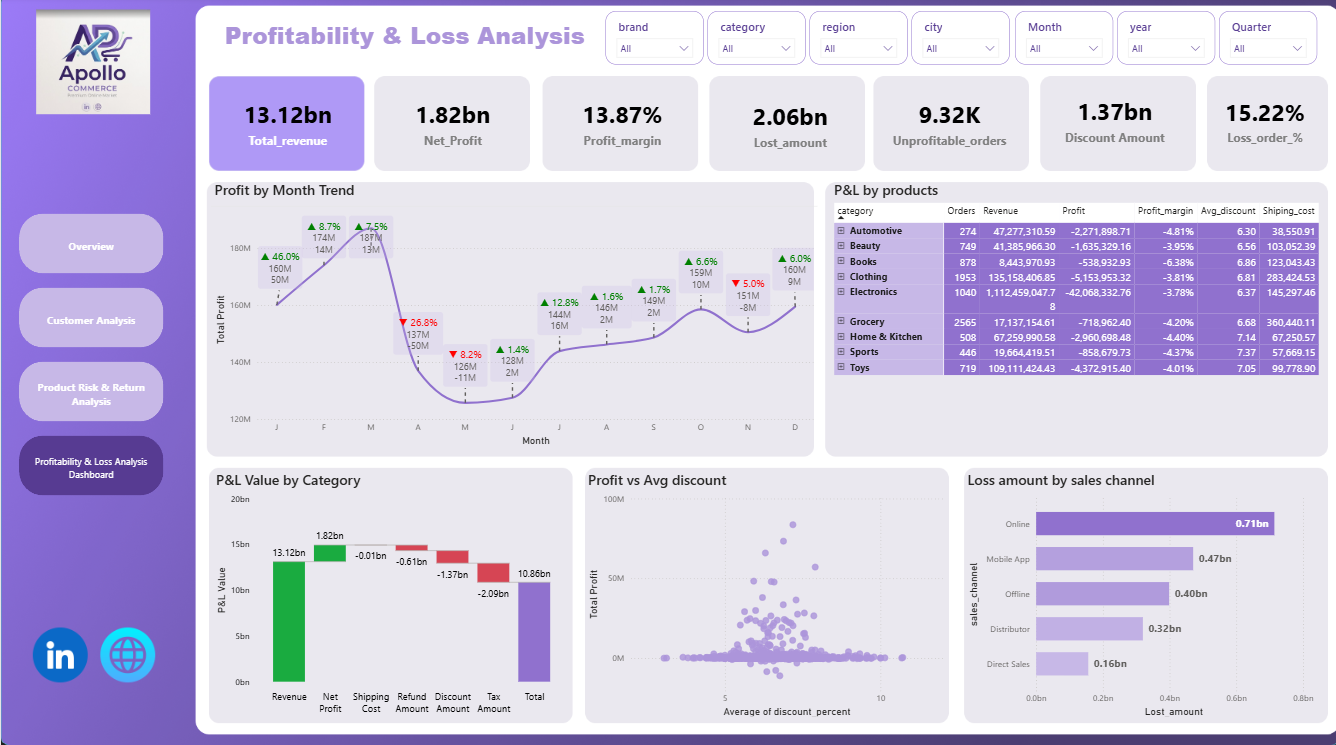

What the dashboard file says about the page in this screenshot:
{"tool":"powerbi","page":{"name":"Profitability & Loss Analysis Dashboard","canvas":[1920,1080],"ordinal":3},"visuals":[{"type":"card","fields":{"Values":["Measures_table.Total_revenue"]},"box":[300.6,119.3,219.5,121.7],"z":0},{"type":"scatterChart","title":"Profit vs Avg discount","fields":{"Category":["products.product_name"],"X":["Avg(orders.discount_percent)"],"Y":["Measures_table.Total Profit"]},"box":[835.1,680,524.9,357.9],"z":1000},{"type":"card","fields":{"Values":["Measures_table.Total Profit"]},"box":[536.8,119.3,219.5,121.7],"z":6000},{"type":"card","fields":{"Values":["Measures_table.Profit_margin"]},"box":[780.2,119.3,219.5,121.7],"z":7000},{"type":"card","fields":{"Values":["Measures_table.Lost_amount"]},"box":[1021.2,121.7,219.5,121.7],"z":8000},{"type":"card","fields":{"Values":["Measures_table.Unprofitable_orders"]},"box":[1257.4,119.3,202.8,121.7],"z":9000},{"type":"card","fields":{"Values":["Measures_table.Loss_order_%"]},"box":[1722.6,114.5,174.2,126.5],"z":10000},{"type":"card","fields":{"Values":["Measures_table.Revenue Before Discount"]},"box":[1488.8,116.9,212.3,121.7],"z":11000},{"type":"waterfallChart","fields":{"Category":["P&L Categories.Category"],"Y":["Measures_table.P&L Value"]},"box":[303,680,513,357.9],"z":12000},{"type":"pivotTable","title":"P&L by products","fields":{"Rows":["products.category","products.product_name"],"Values":["Measures_table.Total_orders","Measures_table.Total_revenue","Measures_table.Total Profit","Measures_table.Profit_margin","Avg(orders.discount_percent)","Measures_table.Total shiping cost"]},"box":[1188.2,264.8,708.6,384.1],"z":13001},{"type":"shape","box":[303,19.1,551.1,71.6],"z":13003},{"type":"lineChart","title":" Profit by Month Trend","fields":{"Category":["Calender_table.Month"],"Y":["Measures_table.Total Profit"]},"box":[300.6,264.8,868.5,384.1],"z":13004},{"type":"barChart","title":"Loss amount by sales channel","fields":{"Category":["orders.sales_channel"],"Y":["Measures_table.Lost_amount"]},"box":[1379.1,680,517.7,357.9],"z":13005},{"type":"pageNavigator","box":[26.2,312.6,207.6,404],"z":13006},{"type":"slicer","fields":{"Values":["Calender_table.Date.Variation.Date Hierarchy.Month"]},"box":[1451.4,20.5,140.8,76.3],"z":13007},{"type":"slicer","fields":{"Values":["Calender_table.year"]},"box":[1597.8,20.5,140.8,76.3],"z":13008},{"type":"slicer","fields":{"Values":["Calender_table.Date.Variation.Date Hierarchy.Quarter"]},"box":[1744.1,20.5,140.8,76.3],"z":13009},{"type":"slicer","fields":{"Values":["customers.city"]},"box":[1305.1,20.5,140.8,76.3],"z":13010},{"type":"slicer","fields":{"Values":["customers.region"]},"box":[1158.8,20.5,140.8,76.3],"z":13011},{"type":"slicer","fields":{"Values":["products.category"]},"box":[1012.4,20.5,140.8,76.3],"z":13012},{"type":"slicer","fields":{"Values":["products.brand"]},"box":[866.1,20.5,140.8,76.3],"z":13013},{"type":"image","box":[31.9,904.3,105,78.7],"z":13014},{"type":"image","box":[129.8,904.3,105,78.7],"z":13015},{"type":"image","box":[14.3,19.1,233.8,150.3],"z":13016}]}

Visuals, with their boxes in screenshot pixels (x1, y1, x2, y2), scaled from the page's 1920x1080 canvas onto the 1336x745 screenshot:
card - Measures_table.Total_revenue: (x1=209, y1=82, x2=362, y2=166)
"Profit vs Avg discount" scatterChart: (x1=581, y1=469, x2=946, y2=716)
card - Measures_table.Total Profit: (x1=374, y1=82, x2=526, y2=166)
card - Measures_table.Profit_margin: (x1=543, y1=82, x2=696, y2=166)
card - Measures_table.Lost_amount: (x1=711, y1=84, x2=863, y2=168)
card - Measures_table.Unprofitable_orders: (x1=875, y1=82, x2=1016, y2=166)
card - Measures_table.Loss_order_%: (x1=1199, y1=79, x2=1320, y2=166)
card - Measures_table.Revenue Before Discount: (x1=1036, y1=81, x2=1184, y2=165)
waterfallChart - P&L Categories.Category x Measures_table.P&L Value: (x1=211, y1=469, x2=568, y2=716)
"P&L by products" pivotTable: (x1=827, y1=183, x2=1320, y2=448)
shape: (x1=211, y1=13, x2=594, y2=63)
" Profit by Month Trend" lineChart: (x1=209, y1=183, x2=813, y2=448)
"Loss amount by sales channel" barChart: (x1=960, y1=469, x2=1320, y2=716)
pageNavigator: (x1=18, y1=216, x2=163, y2=494)
slicer - Calender_table.Date.Variation.Date Hierarchy.Month: (x1=1010, y1=14, x2=1108, y2=67)
slicer - Calender_table.year: (x1=1112, y1=14, x2=1210, y2=67)
slicer - Calender_table.Date.Variation.Date Hierarchy.Quarter: (x1=1214, y1=14, x2=1312, y2=67)
slicer - customers.city: (x1=908, y1=14, x2=1006, y2=67)
slicer - customers.region: (x1=806, y1=14, x2=904, y2=67)
slicer - products.category: (x1=704, y1=14, x2=802, y2=67)
slicer - products.brand: (x1=603, y1=14, x2=701, y2=67)
image: (x1=22, y1=624, x2=95, y2=678)
image: (x1=90, y1=624, x2=163, y2=678)
image: (x1=10, y1=13, x2=173, y2=117)
